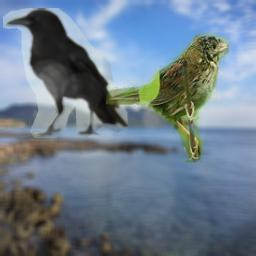Crow: (3, 8, 128, 138)
Sparrow: (106, 33, 229, 163)
